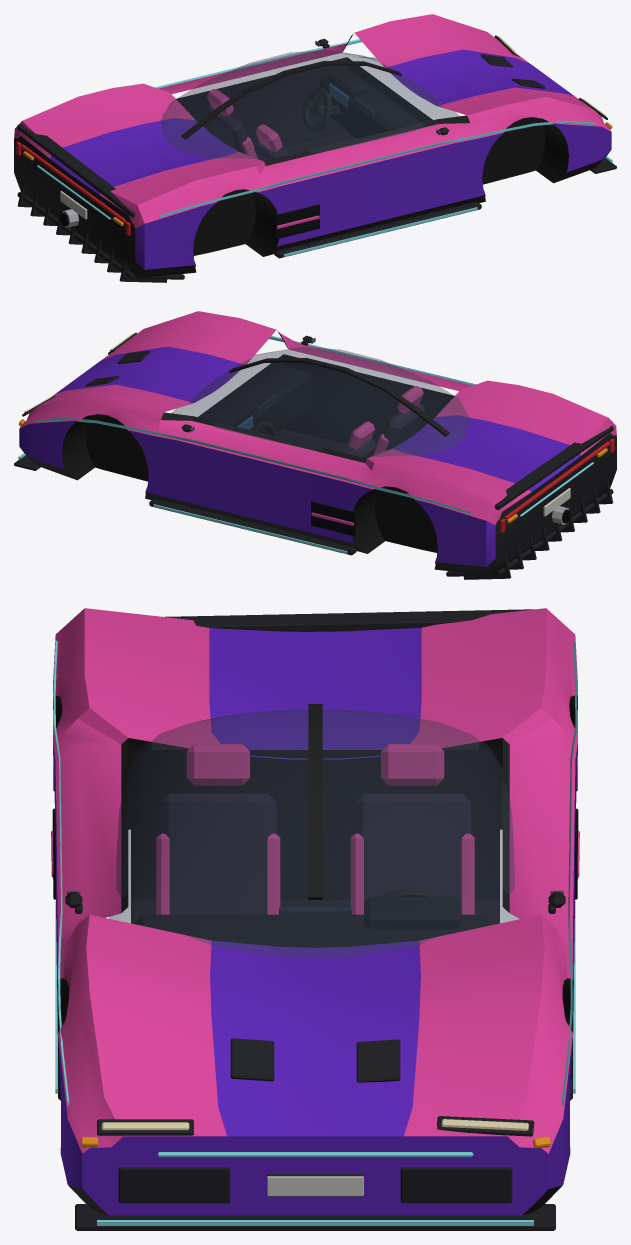
The model's file is aurora.glb.
3 renders of one model, top to bottom at view 1: azimuth 30°, elevation 25°; view 2: azimuth 150°, elevation 25°; view 3: azimuth 270°, elevation 25°, orthographic. The views are drawn at different scales.
Parts seen in each view (by area): view 1: Body, Glass, Interior, Details, Glow, TailLights; view 2: Body, Glass, Interior, Details, Glow, TailLights; view 3: Body, Glass, Interior, Details, Glow, HeadLights.
Boxes of the visible parts, x1,y1,x2,y2 form: Body: [14, 14, 616, 279]; Glass: [161, 50, 459, 160]; Interior: [176, 57, 432, 161]; Details: [17, 60, 401, 282]; Glow: [37, 39, 612, 256]; TailLights: [16, 141, 130, 235]; Body: [14, 311, 616, 576]; Glass: [171, 347, 469, 457]; Interior: [198, 354, 454, 458]; Details: [229, 357, 613, 579]; Glow: [18, 335, 593, 553]; TailLights: [500, 438, 614, 532]; Body: [51, 608, 579, 1230]; Glass: [109, 709, 518, 957]; Interior: [131, 744, 499, 947]; Details: [159, 609, 533, 899]; Glow: [53, 640, 577, 1225]; HeadLights: [101, 1119, 528, 1130].
Size of the model in its own units: 4.7 by 1.19 by 2.18.
